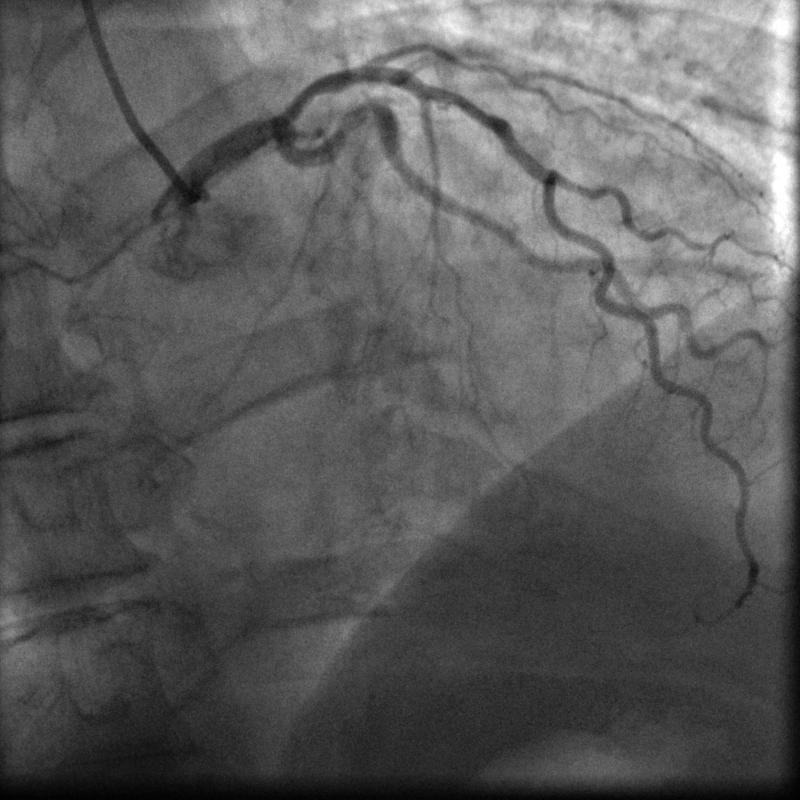Stenosis: (341, 99, 391, 123)
